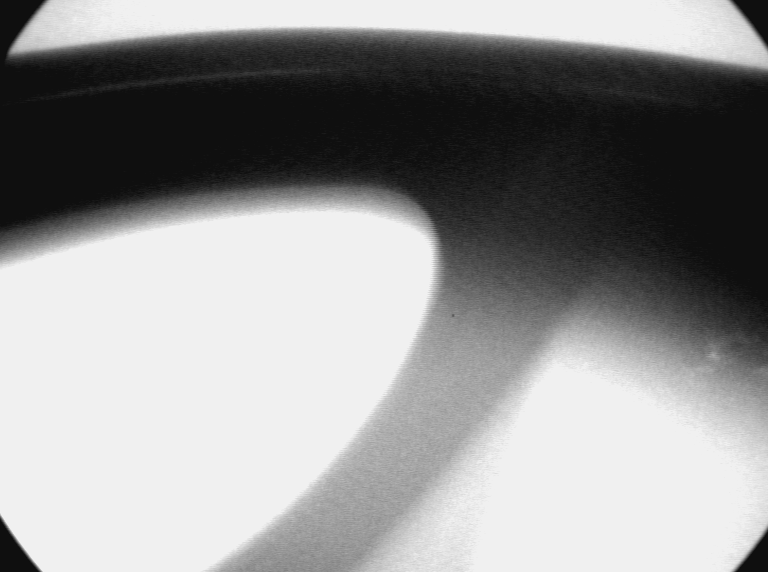defect: (680, 325, 766, 402)
